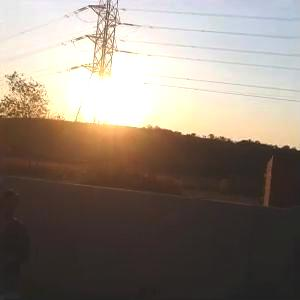follow: (0, 183, 34, 297)
